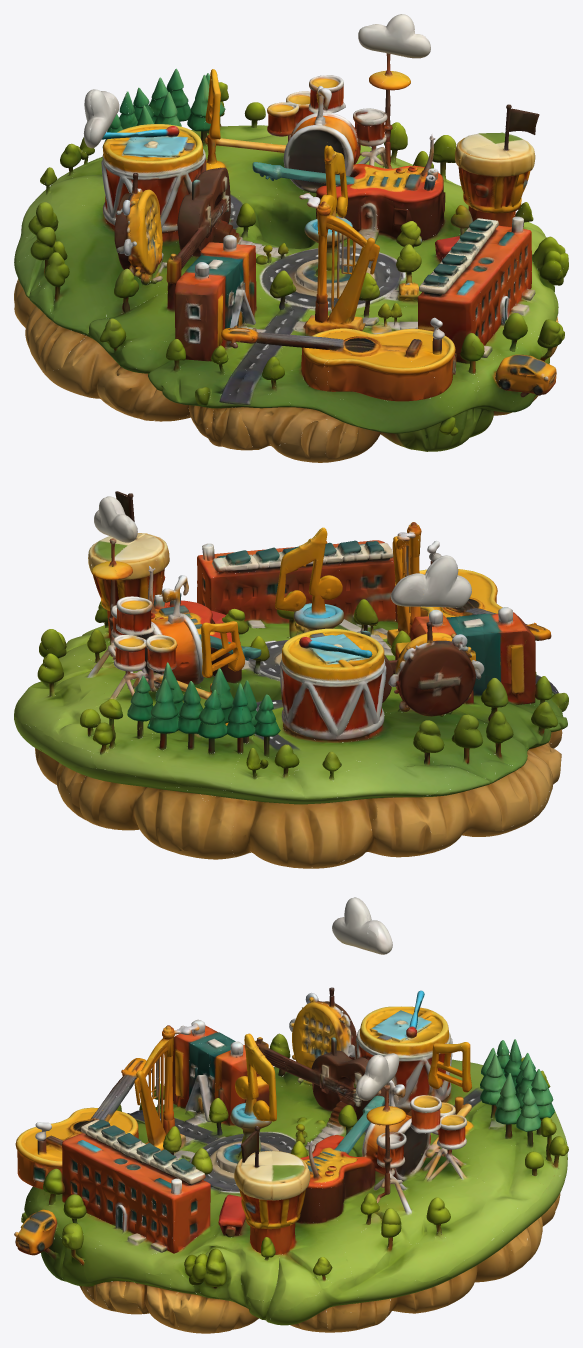
File: planeta.glb
The picture shows the model from 3 angles, top to bottom: view 1: azimuth 30°, elevation 25°; view 2: azimuth 150°, elevation 25°; view 3: azimuth 270°, elevation 25°; orthographic projection. The views are drawn at different scales.
Visible parts, largest first — view 1: SM_Planeta; view 2: SM_Planeta; view 3: SM_Planeta.
Part boxes in pixels (x1=…): SM_Planeta: x1=14, y1=14, x2=568, y2=462; SM_Planeta: x1=14, y1=491, x2=568, y2=868; SM_Planeta: x1=14, y1=897, x2=568, y2=1333.
Bounding box in the file's own units: 1.82 × 1.05 × 1.91.
Materials: 1 (1 with a texture image).
